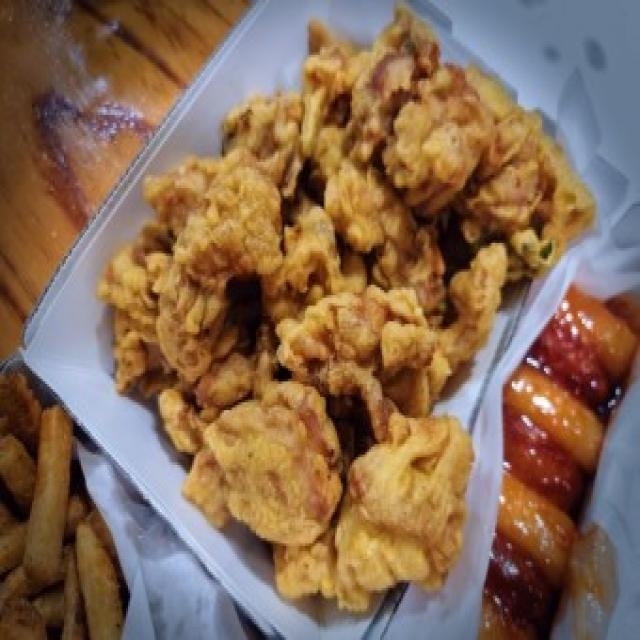Frango: (107, 39, 567, 588)
